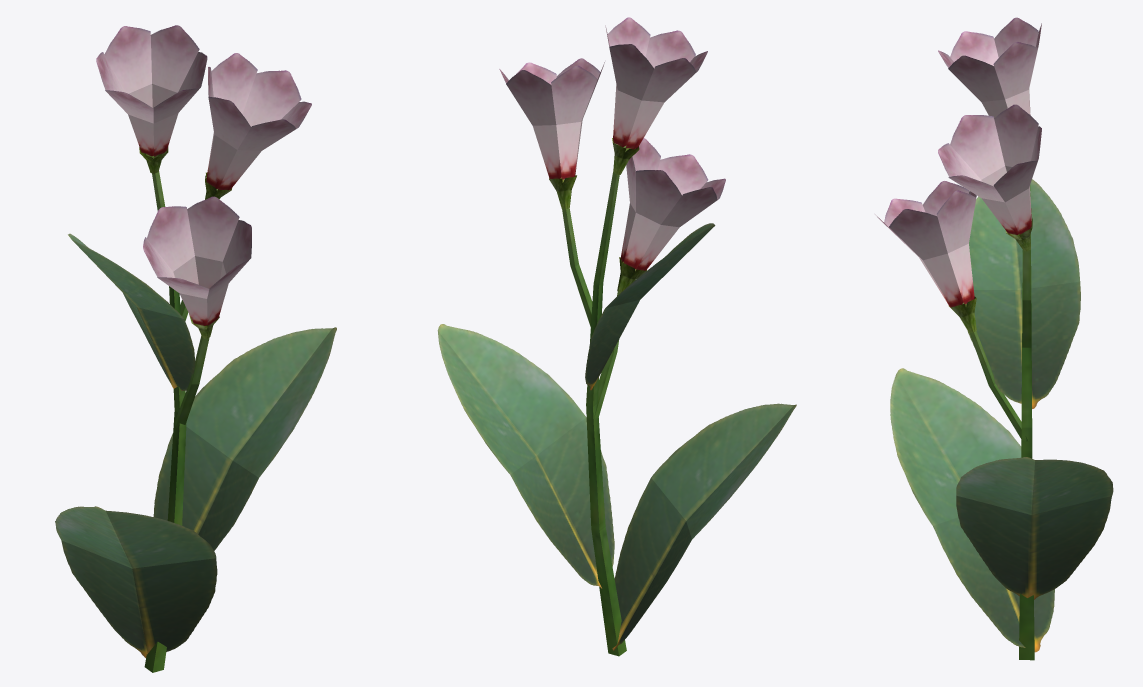
File: bellf4.obj
3 renders of one model, left to right at view 1: azimuth 30°, elevation 25°; view 2: azimuth 150°, elevation 25°; view 3: azimuth 270°, elevation 25°, orthographic. The views are drawn at different scales.
Visible parts, largest first — view 1: bellflower04; view 2: bellflower04; view 3: bellflower04.
Part boxes in pixels (x1=…): bellflower04: x1=55, y1=25, x2=336, y2=672; bellflower04: x1=437, y1=17, x2=796, y2=656; bellflower04: x1=875, y1=17, x2=1113, y2=660.
Size of the model in its own units: 27.51 by 47.6 by 19.95.
Materials: 2 (2 with a texture image).
